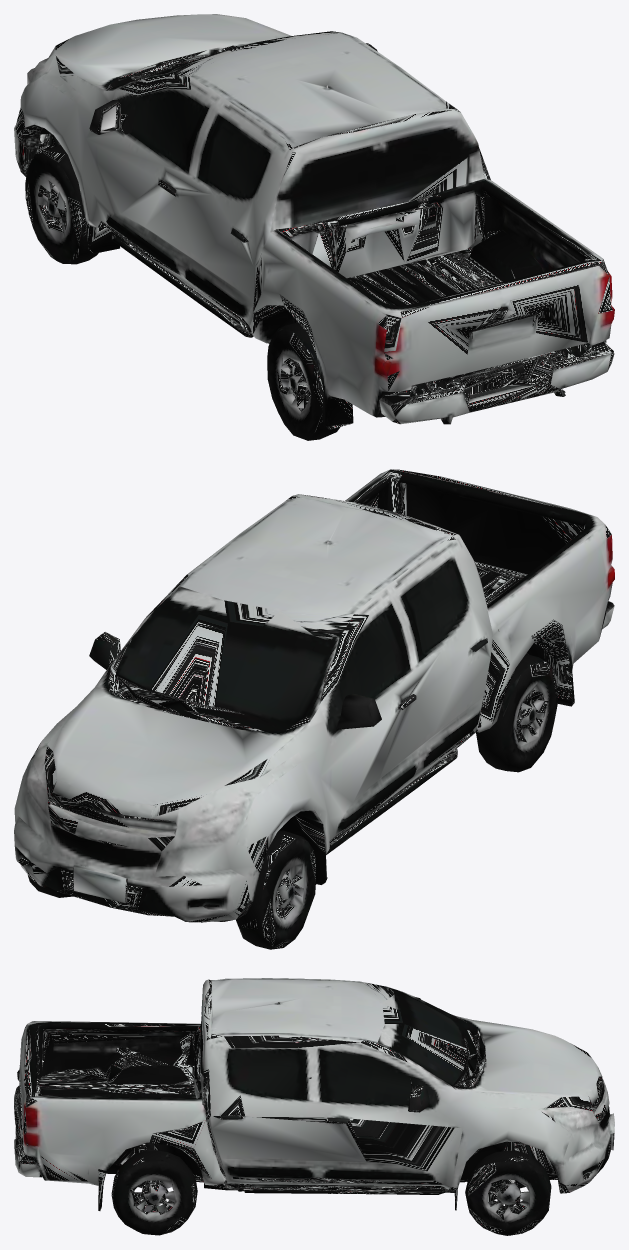
Rendered from picape.glb.
3 views of the same model, one above another, from view 1: azimuth 30°, elevation 25°; view 2: azimuth 150°, elevation 25°; view 3: azimuth 270°, elevation 25° (orthographic). The views are drawn at different scales.
Visible parts, largest first — view 1: corpo; view 2: corpo; view 3: corpo.
Boxes of the visible parts, box(x1,y1,x2,y2) form: corpo: box(14, 14, 614, 440); corpo: box(14, 469, 614, 949); corpo: box(14, 978, 614, 1235).
Size of the model in its own units: 2.14 by 1.88 by 5.29.
Materials: 1 (1 with a texture image).
